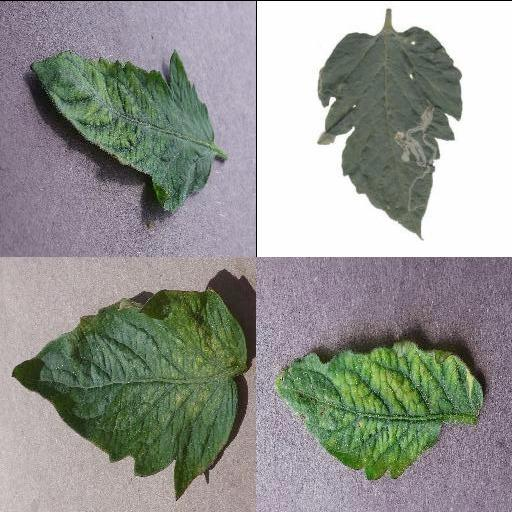Leaf Miner: (315, 25, 462, 239)
Mosaic Virus: (267, 340, 489, 482), (28, 46, 214, 210)
Spider Mites: (10, 283, 246, 501)
